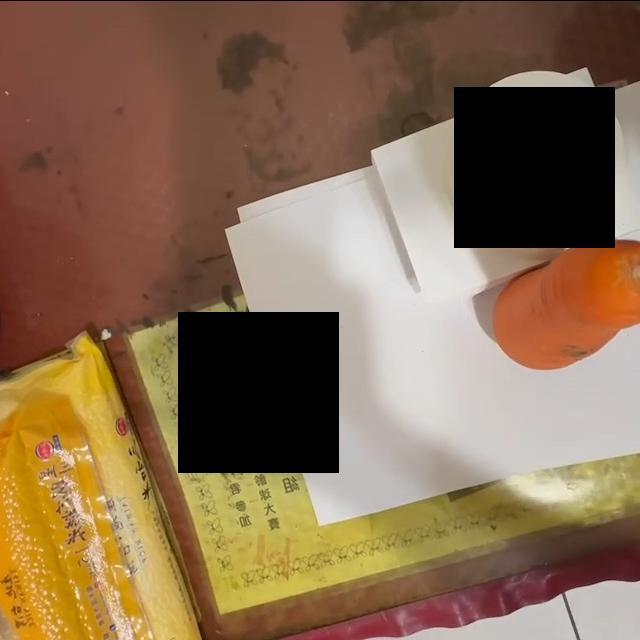carrot: (492, 236, 640, 372)
